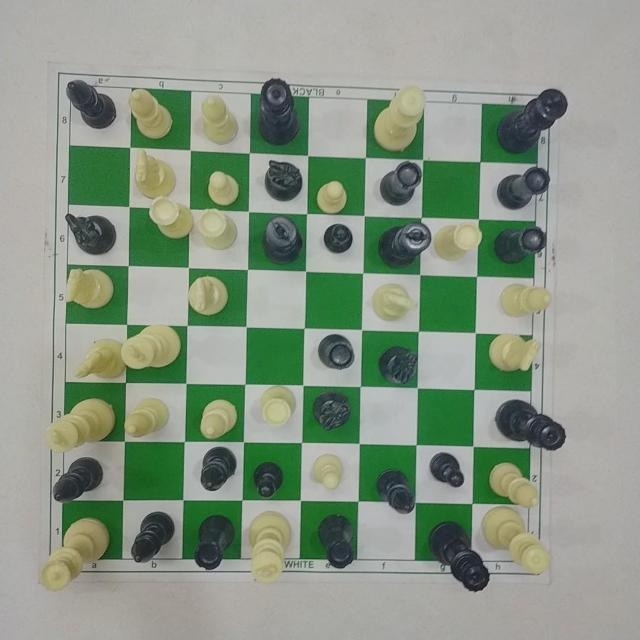black-bishop: (63, 77, 121, 133), (128, 508, 178, 564), (49, 457, 104, 505), (196, 445, 240, 495), (376, 466, 416, 516)
black-king: (502, 88, 570, 156), (378, 219, 434, 269), (259, 215, 303, 269)
black-knight: (65, 213, 117, 255), (312, 390, 357, 435), (261, 156, 307, 199), (377, 345, 421, 388)
black-pawn: (254, 457, 286, 502), (430, 452, 466, 491), (321, 221, 355, 257)
black-queen: (427, 519, 493, 594), (492, 396, 570, 457), (254, 74, 306, 145)
black-rook: (192, 511, 237, 573), (493, 165, 553, 210), (488, 223, 549, 266), (318, 511, 355, 570), (378, 159, 422, 208), (315, 333, 354, 371)
white-bishop: (486, 458, 542, 510), (117, 393, 172, 439), (128, 87, 174, 141), (199, 92, 241, 147), (497, 284, 555, 320), (198, 396, 240, 442)
white-king: (42, 394, 115, 455), (249, 509, 297, 586), (119, 323, 183, 371)
white-knight: (59, 265, 114, 312), (486, 330, 544, 373), (74, 333, 124, 381), (131, 146, 173, 198), (369, 280, 419, 321), (188, 274, 230, 319)
white-pawn: (309, 453, 349, 493), (202, 168, 243, 204), (313, 178, 349, 214)
white-queen: (34, 515, 111, 591), (480, 504, 552, 575), (372, 85, 430, 153)
white-rook: (148, 192, 193, 242), (433, 218, 482, 259), (193, 207, 238, 249), (259, 385, 299, 427)
